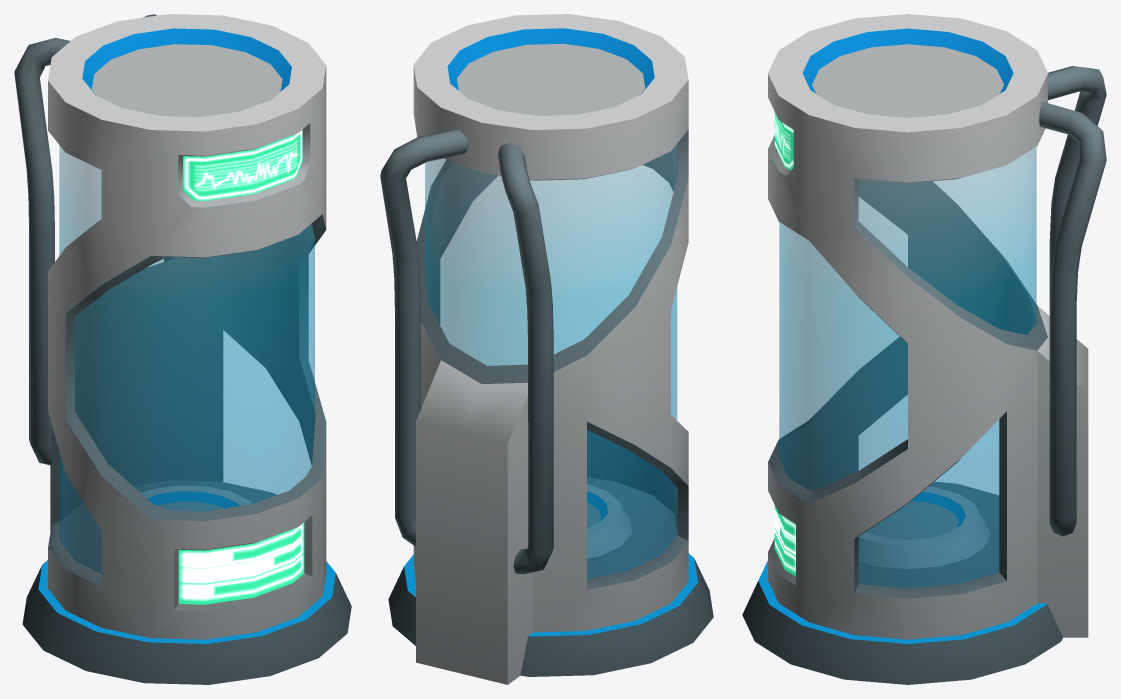
3 renders of one model, left to right at view 1: azimuth 30°, elevation 25°; view 2: azimuth 150°, elevation 25°; view 3: azimuth 270°, elevation 25°, orthographic.
Visible parts, largest first — view 1: Сapsule_007; view 2: Сapsule_007; view 3: Сapsule_007.
Boxes of the visible parts, x1,y1,x2,y2 form: Сapsule_007: (14, 14, 351, 684); Сapsule_007: (380, 14, 713, 684); Сapsule_007: (742, 14, 1106, 684).
Bounding box in the file's own units: 1.48 × 2.66 × 1.62.
4 materials, 4 textured.
